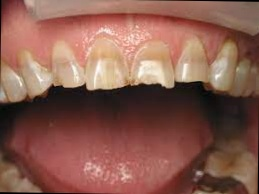Tooth Discoloration: (85, 43, 126, 73), (133, 46, 170, 67), (119, 73, 138, 88), (52, 75, 68, 88)
